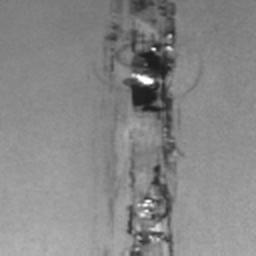Slag inclusion: (100, 0, 204, 256), (106, 100, 122, 236)
